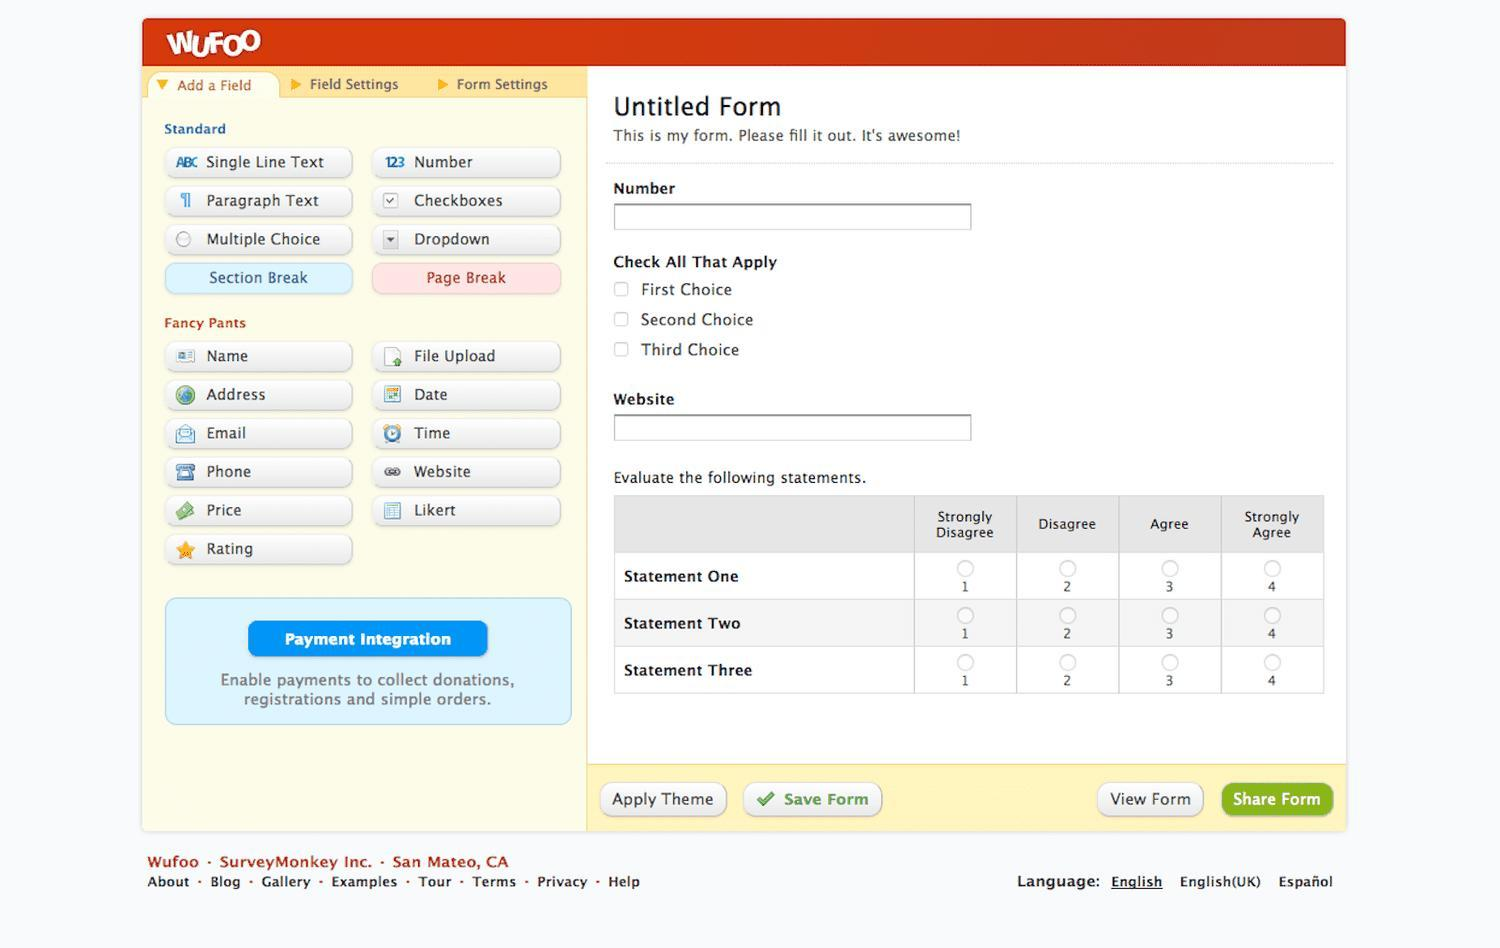button: (249, 621, 489, 659), (166, 457, 354, 491), (372, 263, 564, 297), (373, 458, 562, 491), (166, 381, 354, 414), (166, 534, 354, 567), (165, 263, 355, 295), (165, 343, 354, 375), (374, 496, 563, 528), (373, 342, 561, 374), (372, 381, 563, 412), (374, 187, 561, 217), (374, 420, 561, 451), (167, 497, 354, 528), (168, 149, 354, 179), (167, 188, 353, 218), (167, 225, 353, 256), (376, 225, 561, 256), (374, 150, 562, 179), (165, 419, 352, 449), (745, 784, 884, 818), (604, 782, 728, 819), (1223, 784, 1335, 818), (1102, 784, 1205, 818)
checkbox: (614, 283, 630, 298), (615, 315, 629, 328), (615, 344, 629, 357)
dropdown: (152, 72, 282, 99), (434, 75, 553, 95), (288, 78, 404, 95)
input: (616, 416, 971, 442), (615, 205, 972, 230)
label: (611, 91, 784, 122), (621, 659, 757, 684), (610, 254, 779, 272), (1236, 506, 1305, 547), (617, 567, 745, 589), (620, 615, 746, 637), (934, 505, 999, 545), (640, 310, 755, 329), (1032, 510, 1106, 537), (640, 342, 745, 360), (639, 281, 736, 299), (165, 315, 248, 333), (614, 391, 679, 410), (1145, 516, 1195, 536), (165, 121, 228, 138), (616, 182, 678, 199)
radio: (1160, 654, 1181, 673), (956, 607, 976, 626), (1160, 607, 1180, 626), (1160, 561, 1180, 578), (1263, 654, 1283, 671), (1264, 561, 1282, 579), (1060, 607, 1078, 625), (1059, 561, 1078, 578), (957, 561, 975, 578), (1265, 608, 1283, 625), (1060, 655, 1078, 672), (959, 655, 975, 672)
table: (616, 493, 1328, 694)
